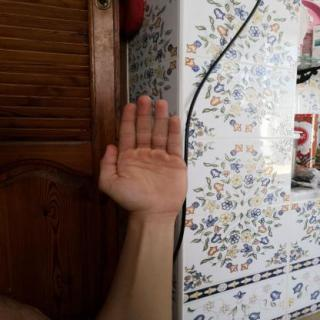SEEN: (90, 89, 196, 220)
